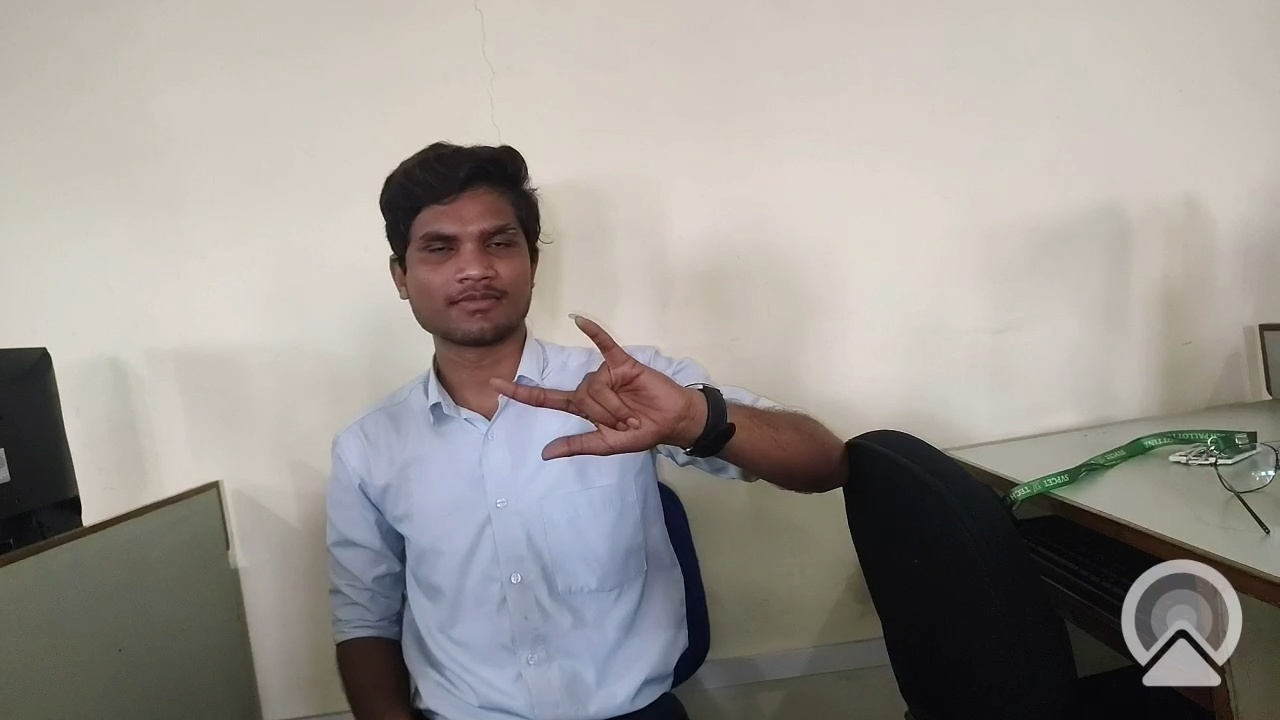I love you: (482, 301, 707, 490)
